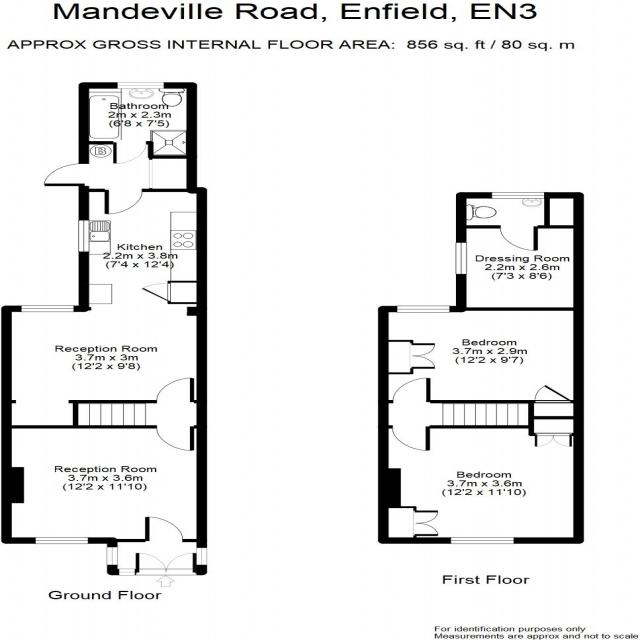DOOR: (391, 424, 433, 452), (43, 162, 89, 187), (389, 377, 433, 403), (155, 425, 196, 452), (155, 377, 196, 404), (499, 225, 539, 252), (103, 188, 143, 215), (143, 516, 184, 542), (112, 141, 148, 165)
ROOM: (1, 187, 208, 429), (378, 416, 584, 544), (1, 425, 208, 544), (377, 306, 584, 404)
WINDOW: (448, 536, 516, 545), (490, 191, 546, 200), (396, 305, 451, 313), (455, 242, 468, 275), (78, 220, 90, 253), (34, 537, 89, 544), (20, 305, 75, 312), (116, 82, 165, 89), (195, 547, 208, 566), (106, 547, 118, 566), (118, 568, 136, 576)
